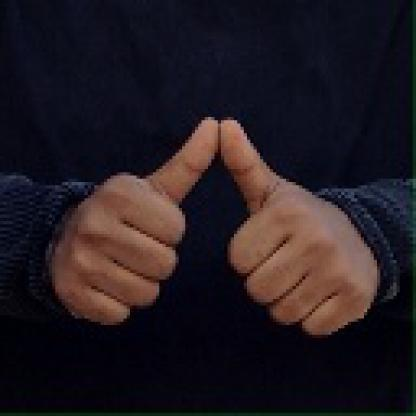A: (52, 104, 383, 342)
